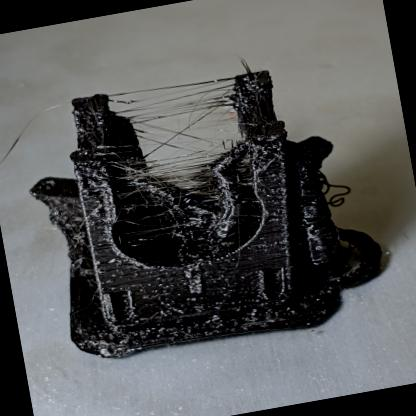fail: (109, 72, 247, 164)
